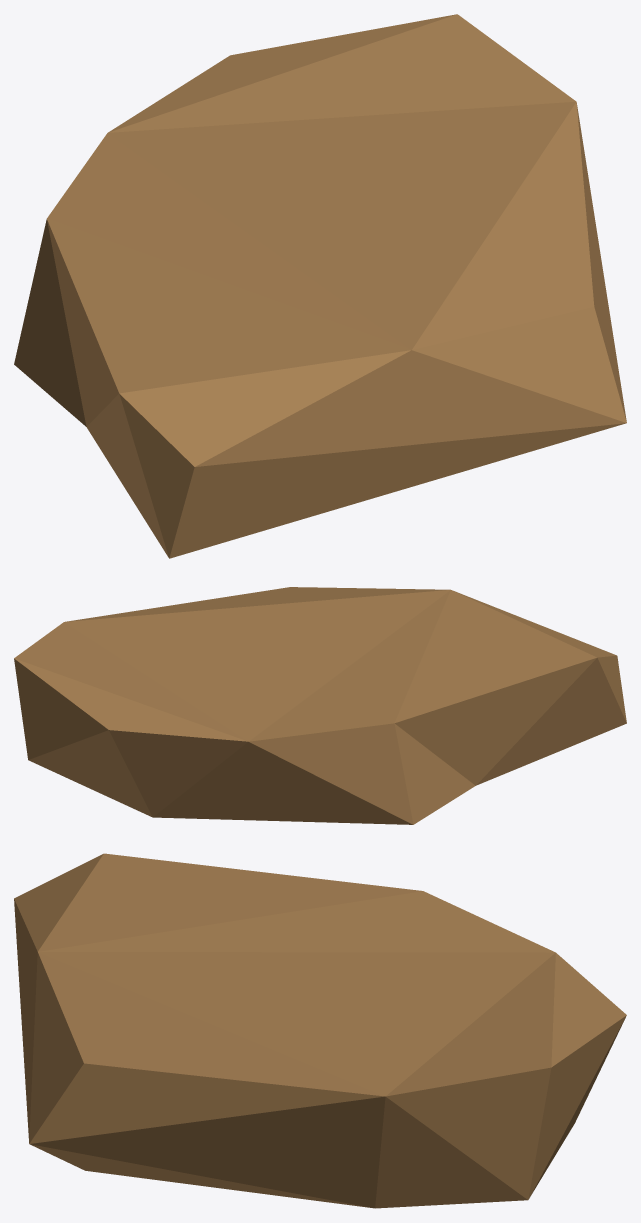
File: Path_tile_4.glb
3 renders of one model, top to bottom at view 1: azimuth 30°, elevation 25°; view 2: azimuth 150°, elevation 25°; view 3: azimuth 270°, elevation 25°, orthographic. The views are drawn at different scales.
Parts seen in each view (by area): view 1: Path_tile_04; view 2: Path_tile_04; view 3: Path_tile_04.
Part boxes in pixels (x1=…): Path_tile_04: x1=14, y1=14, x2=626, y2=558; Path_tile_04: x1=14, y1=587, x2=626, y2=824; Path_tile_04: x1=14, y1=853, x2=626, y2=1208.
Size of the model in its own units: 0.0606 by 0.0175 by 0.0602.
